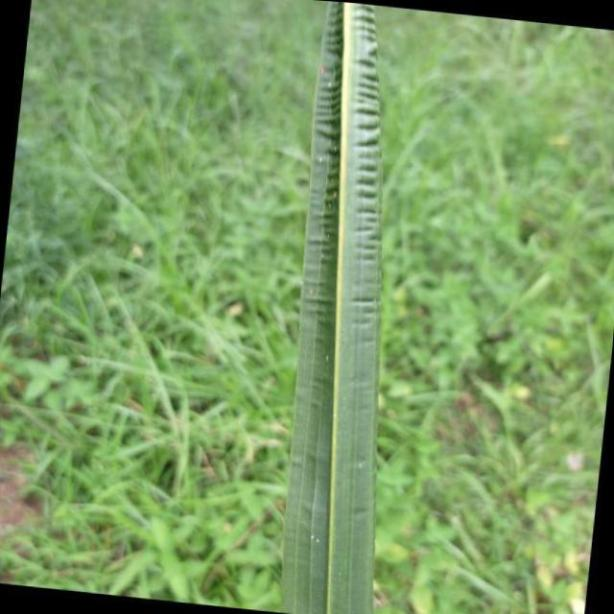Boron: (285, 0, 387, 614)
